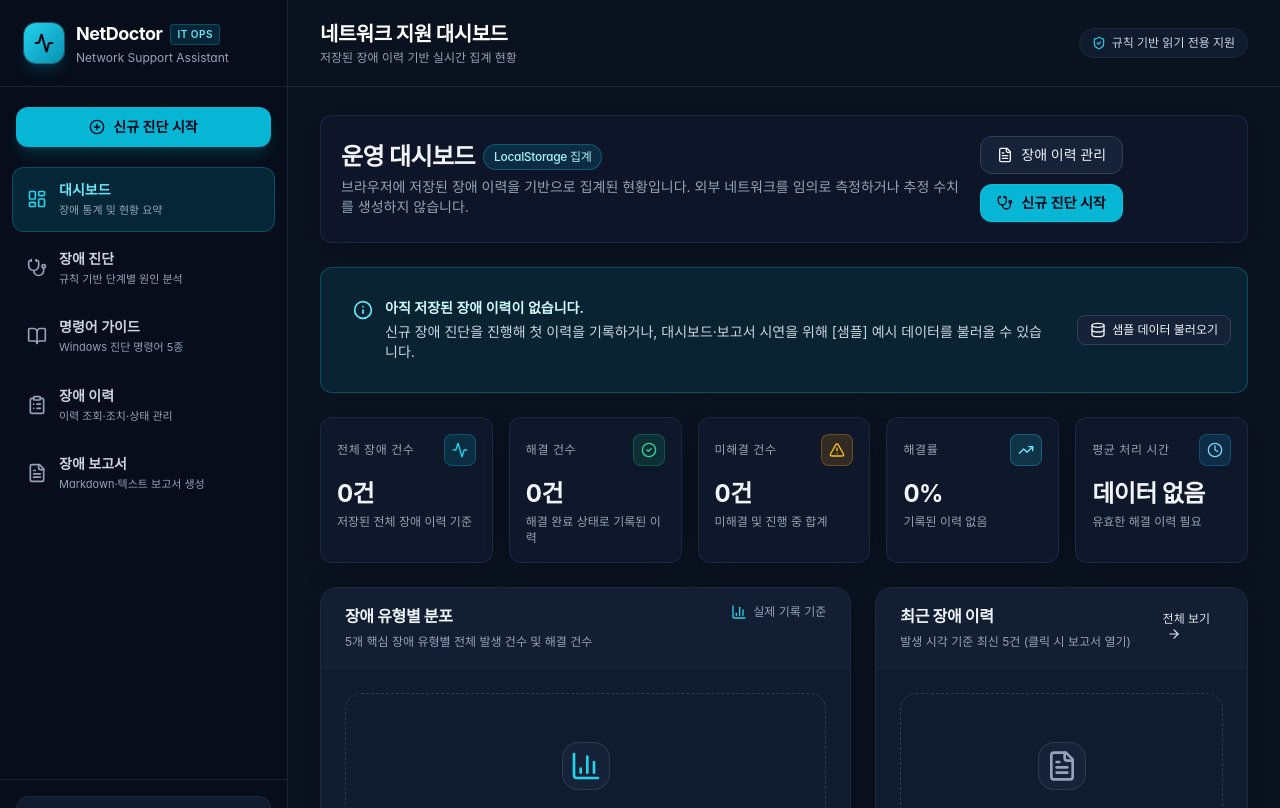
Test: NetDoctor End-to-End UI Integration Flows › Flow D: loads sample data with unmistakable [샘플] badges and clears sample data while preserving real records
The image size is (1280, 808).
Click the button "샘플 데이터 불러오기" at (1154, 330), box left=1077, top=315, right=1231, bottom=345
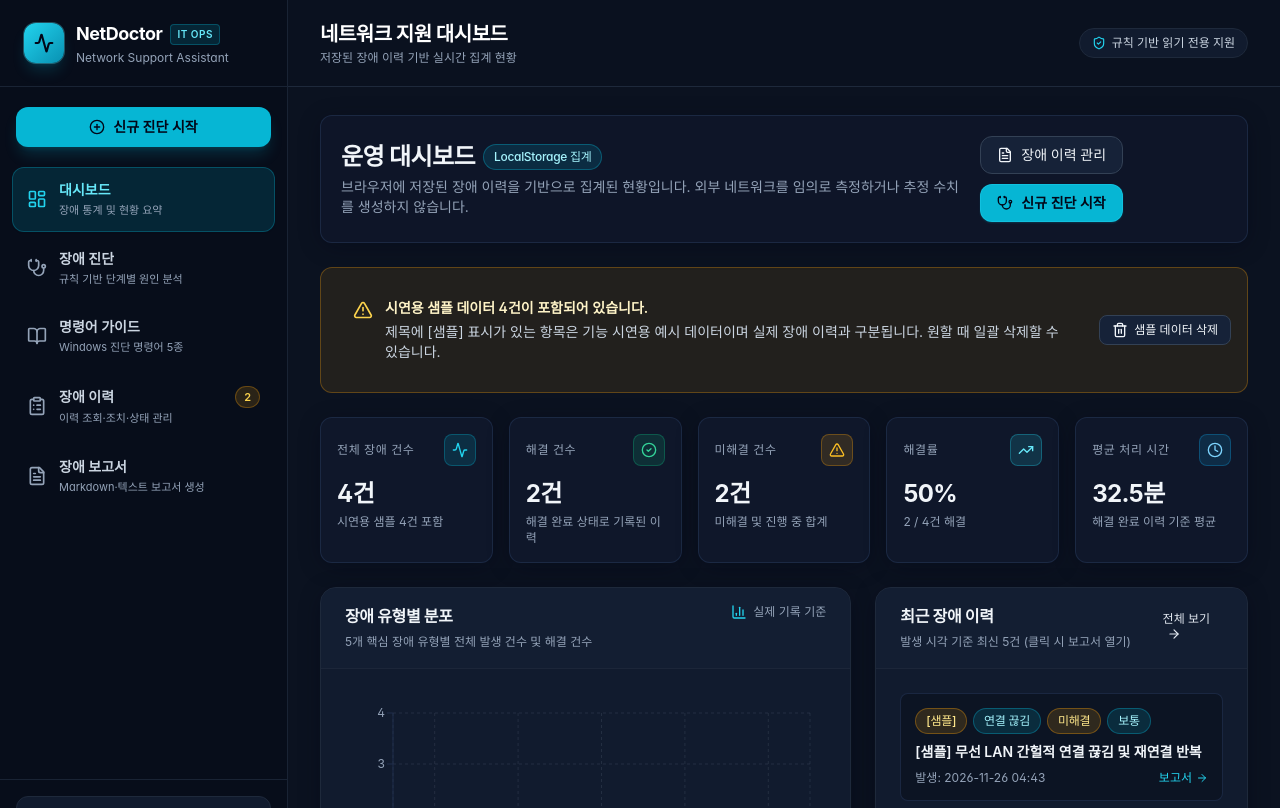
Check: the text "시연용 샘플 데이터 4건이 포함되어 있습니다." is shown, box left=385, top=299, right=648, bottom=316
Click the button "샘플 데이터 삭제" at (1165, 330), box left=1099, top=315, right=1231, bottom=345
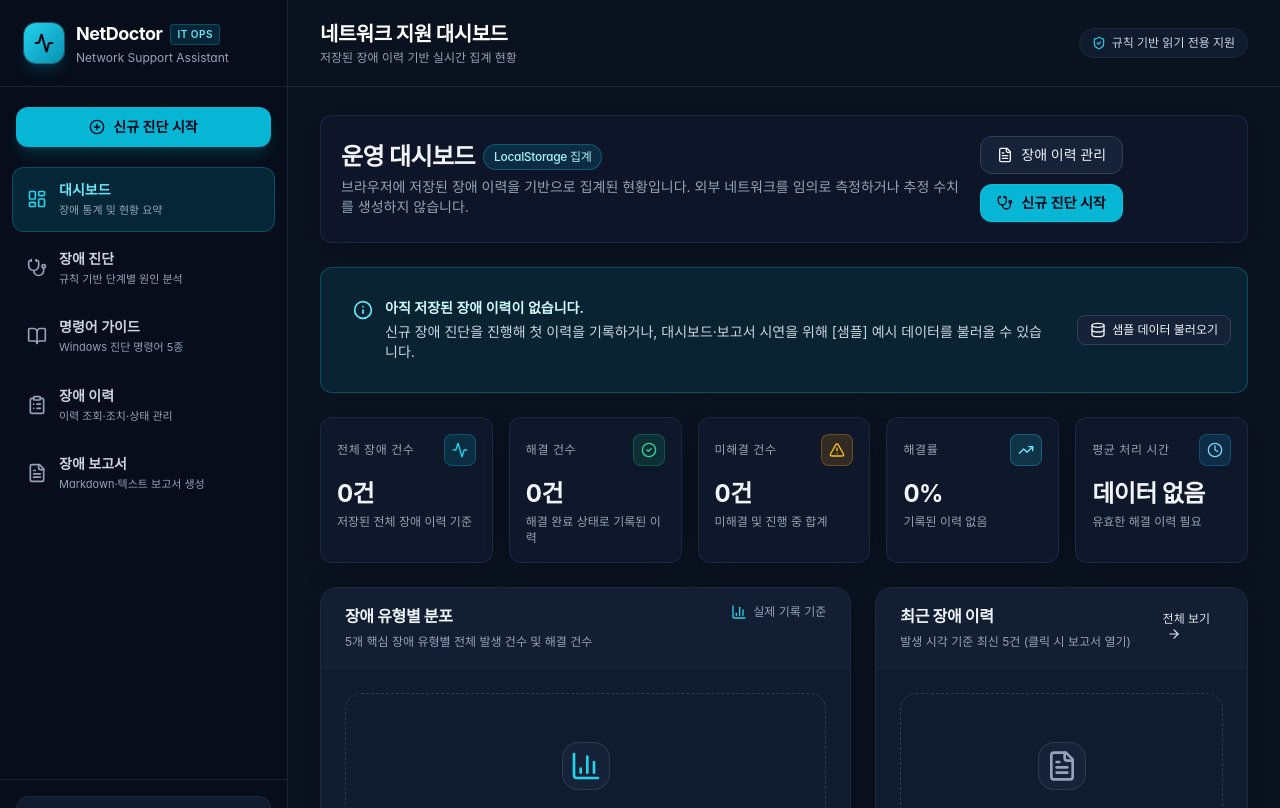
Check: the text "아직 저장된 장애 이력이 없습니다." is shown, box left=385, top=299, right=584, bottom=316
